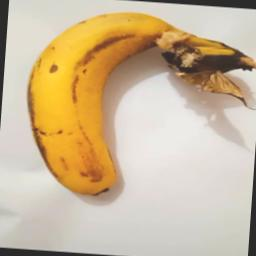Banana Unripe: (16, 1, 256, 207)
